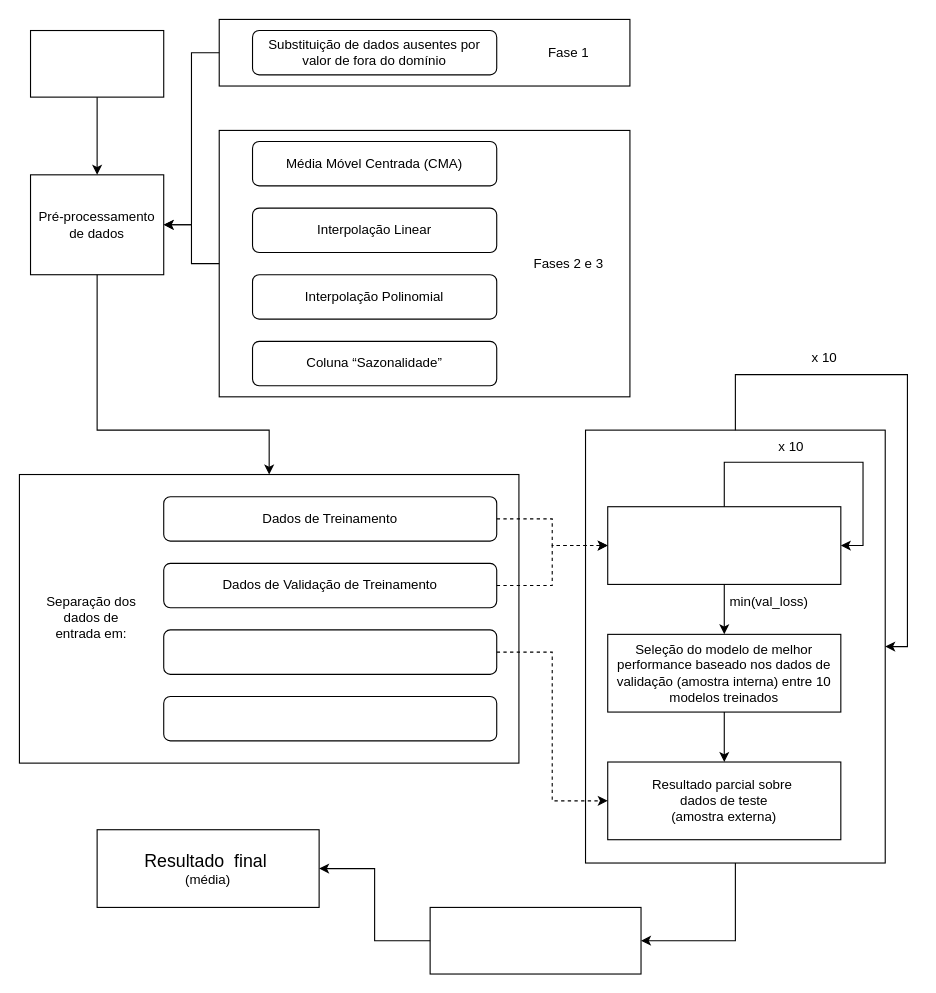
Some shapes in this 936 by 993 pixel diagram are drawn without their labels. The shapes that lost their labels are listed below. From the top down, each one's centre as x and y in pixels, then its label:
At point (96, 63): "Reunião de dados".
At point (724, 545): "Treinamento utilizando otimizador estocástico".
At point (330, 651): "Dados de Teste de Amostra Externa".
At point (330, 718): "Dado Alvo (Consumo de Cimento)".
At point (535, 940): "Média de 10 resultados de dados de teste do procedimento completo".
